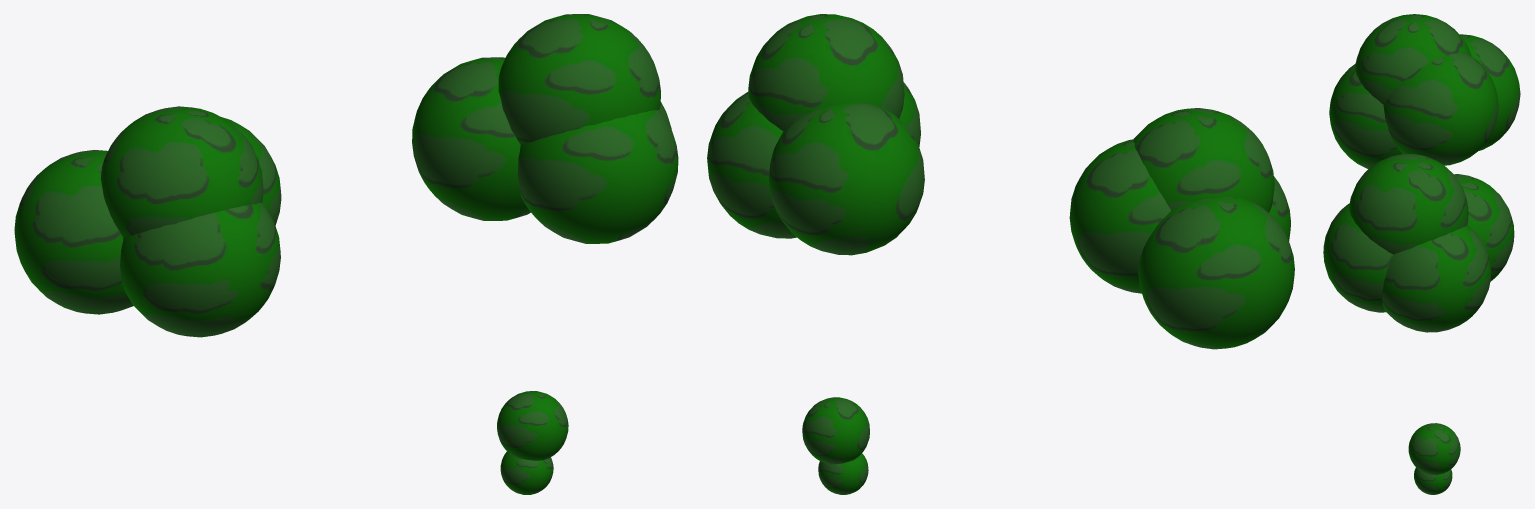
Rendered from item-leaves.glb.
The picture shows the model from 3 angles, left to right: view 1: azimuth 30°, elevation 25°; view 2: azimuth 150°, elevation 25°; view 3: azimuth 270°, elevation 25°; orthographic projection. The views are drawn at different scales.
Size of the model in its own units: 0.3735 by 0.2752 by 0.142.
Materials: 1 (1 with a texture image).
